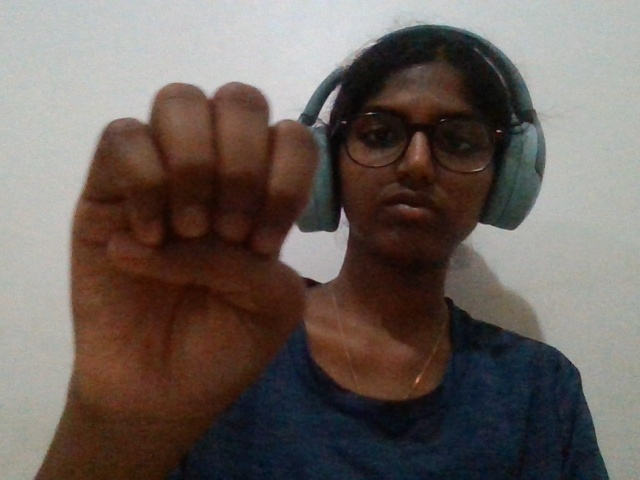E: (32, 71, 372, 480)
